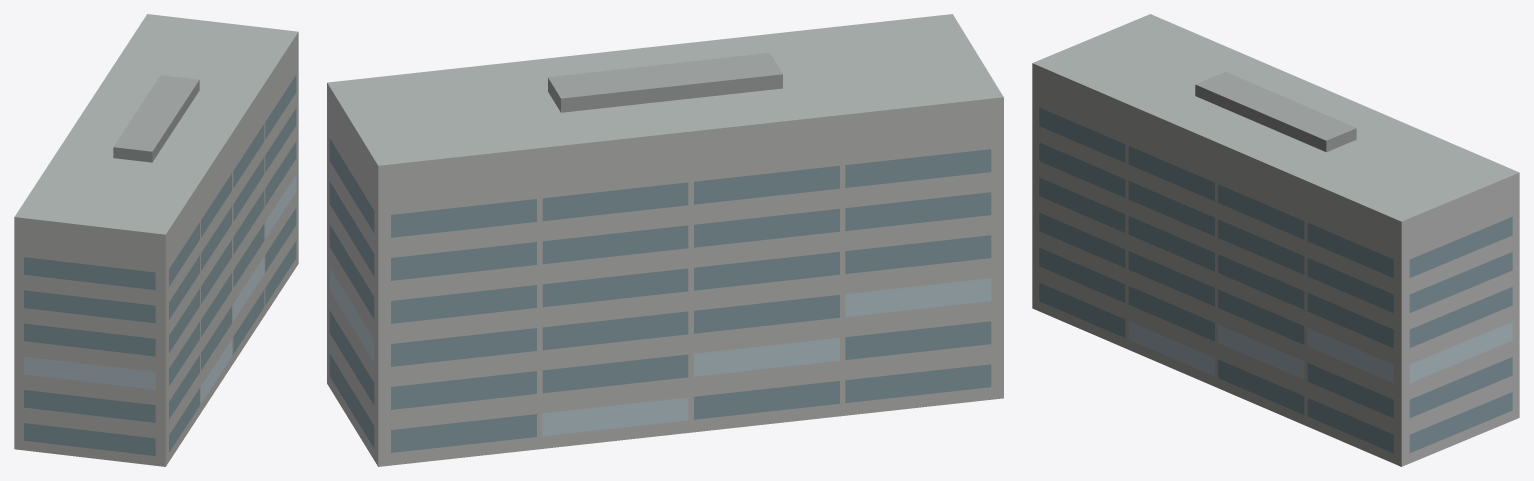
The model's file is fallback-raemian-blesstige-207.glb.
3 views of the same model, side by side, from view 1: azimuth 30°, elevation 25°; view 2: azimuth 150°, elevation 25°; view 3: azimuth 270°, elevation 25° (orthographic). The views are drawn at different scales.
Visible parts, largest first — view 1: fallback-raemian-blesstige-207; view 2: fallback-raemian-blesstige-207; view 3: fallback-raemian-blesstige-207.
Part boxes in pixels (x1,y1,x2,y2): fallback-raemian-blesstige-207: (14, 14, 298, 466); fallback-raemian-blesstige-207: (327, 14, 1003, 466); fallback-raemian-blesstige-207: (1032, 14, 1519, 466).
Bounding box in the file's own units: 38.15 × 22 × 37.84.
